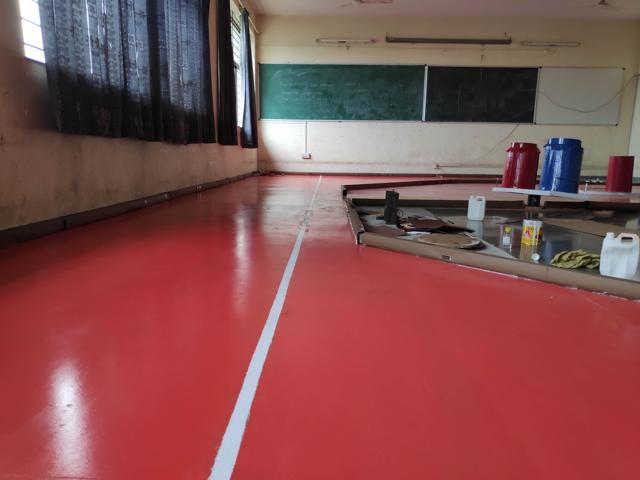Blue: (544, 133, 582, 193)
Red: (501, 143, 540, 186), (606, 155, 634, 192)
